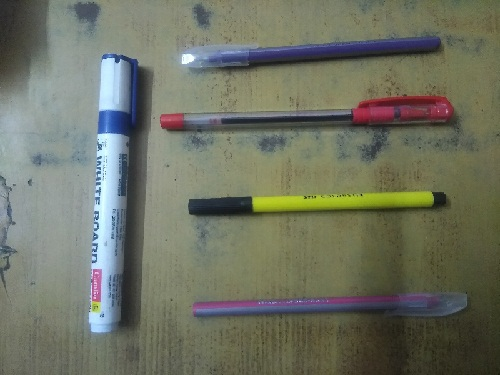pen: (84, 52, 145, 336), (156, 90, 459, 135), (174, 29, 446, 74), (189, 286, 476, 317), (181, 187, 451, 219)
